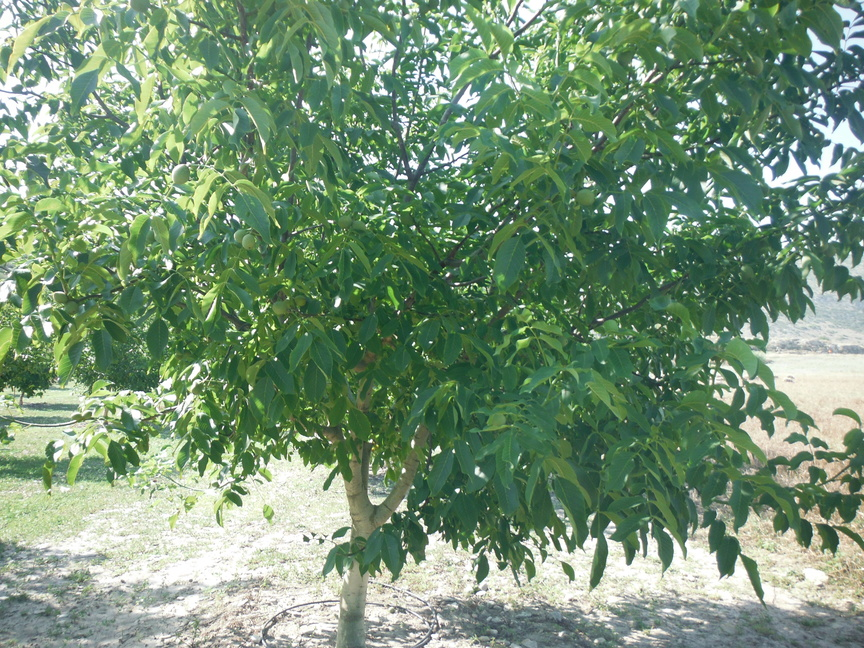walnut: (168, 157, 195, 190), (742, 54, 767, 78), (599, 316, 624, 338), (572, 187, 598, 207), (738, 261, 758, 283), (486, 411, 509, 430), (513, 504, 530, 529), (239, 231, 259, 252), (267, 299, 290, 316), (480, 509, 499, 529), (230, 225, 249, 244), (64, 299, 84, 317), (50, 288, 71, 305), (336, 212, 355, 229), (352, 216, 371, 233), (280, 293, 296, 311), (813, 237, 831, 252), (554, 333, 571, 348), (187, 382, 205, 396), (293, 292, 308, 308), (69, 408, 84, 424), (825, 242, 839, 259), (82, 406, 95, 422), (171, 344, 185, 356), (181, 346, 194, 358), (172, 352, 185, 363), (190, 377, 204, 387)
